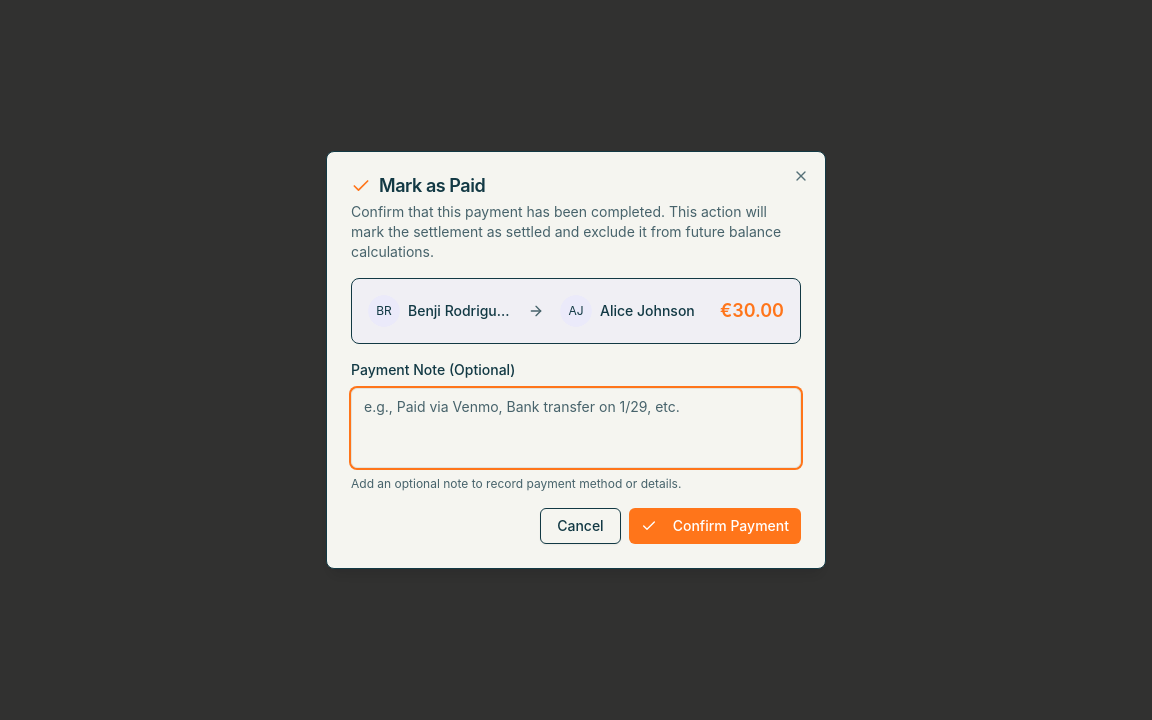
Test: MarkSettlementPaidDialog › Loading State › should show loading text when submitting
Click the button "Confirm Payment" at (715, 526), box left=629, top=508, right=801, bottom=544
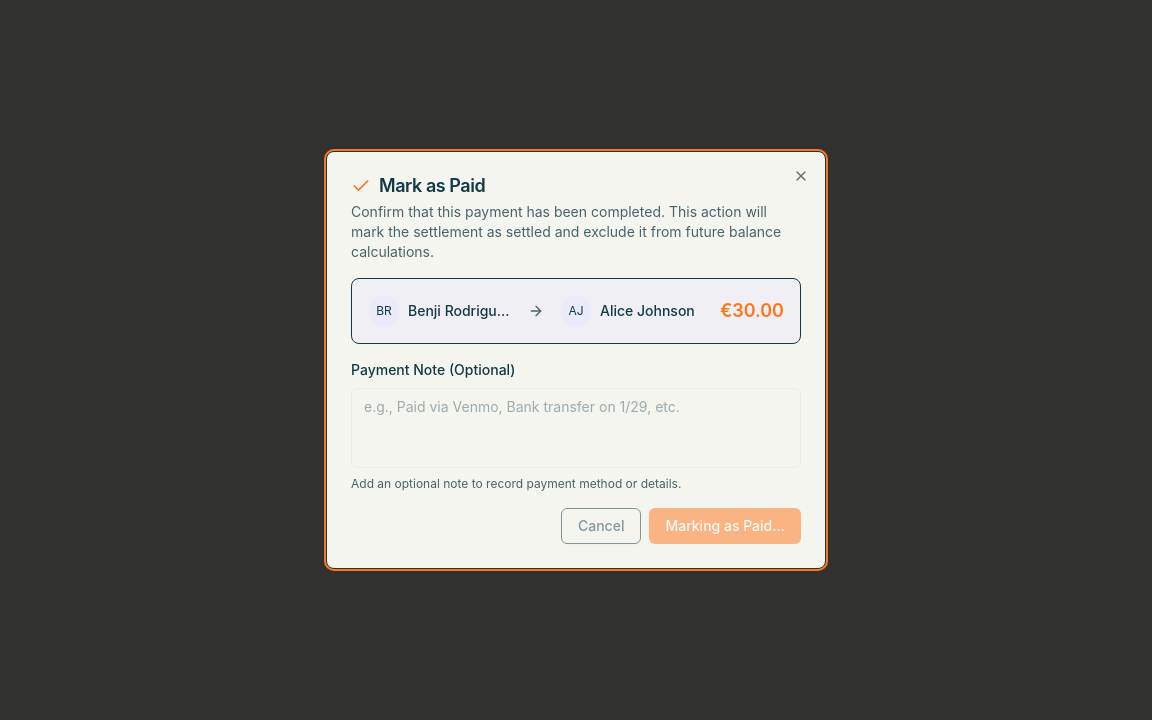
Check: the text "Marking as Paid..." is shown, box left=665, top=516, right=785, bottom=536
Check: the button named "confirm payment" is disabled, box left=649, top=508, right=801, bottom=544
